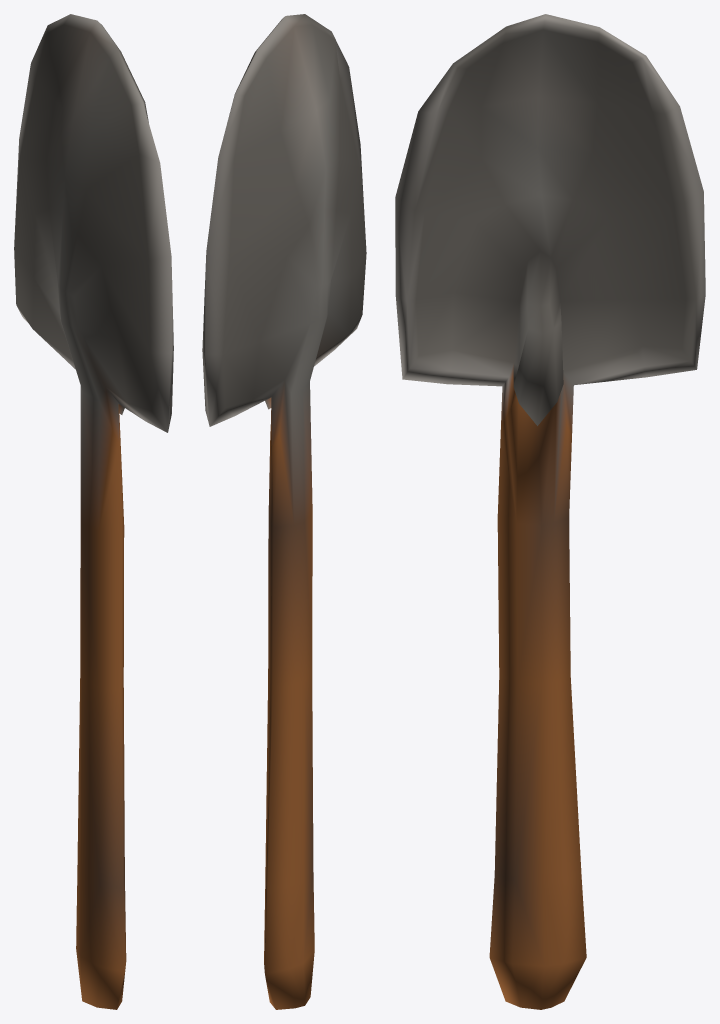
Rendered from stoneShovel.fbx.
The picture shows the model from 3 angles, left to right: view 1: azimuth 30°, elevation 25°; view 2: azimuth 150°, elevation 25°; view 3: azimuth 270°, elevation 25°; orthographic projection.
Parts seen in each view (by area): view 1: Plane.008; view 2: Plane.008; view 3: Plane.008.
Boxes of the visible parts, <box> form: Plane.008: <box>14,14,173,1009</box>; Plane.008: <box>202,14,366,1009</box>; Plane.008: <box>395,14,705,1009</box>.
Size of the model in its own units: 35.09 by 545 by 155.
